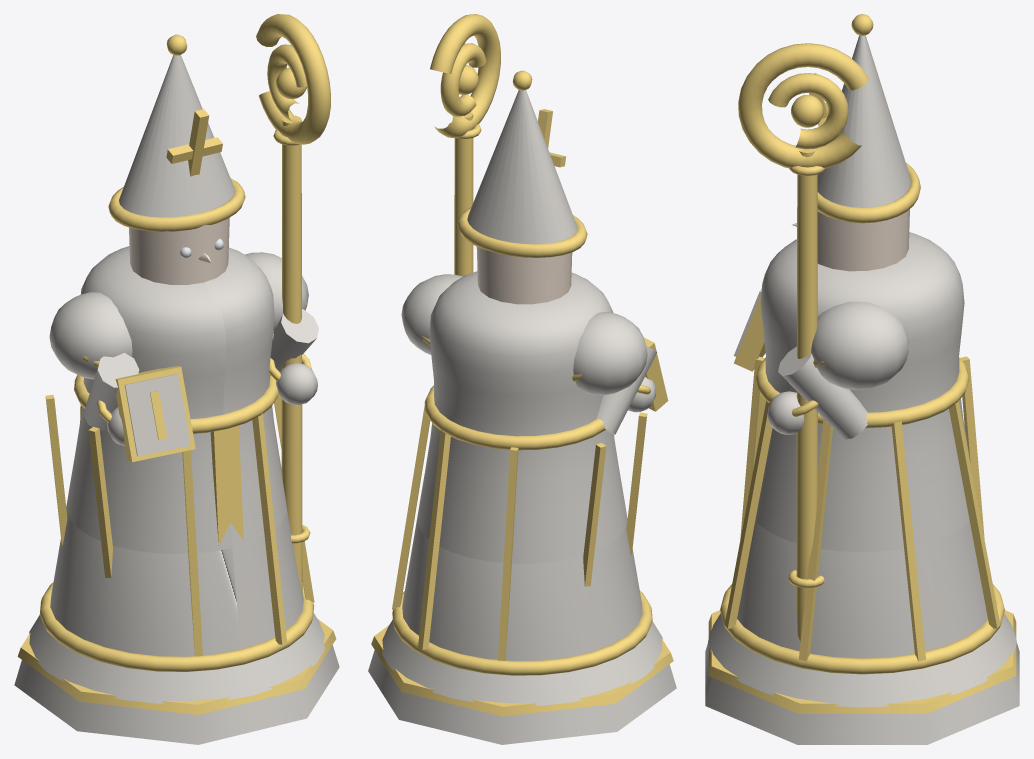
Rendered from bishop.glb.
The picture shows the model from 3 angles, left to right: view 1: azimuth 30°, elevation 25°; view 2: azimuth 150°, elevation 25°; view 3: azimuth 270°, elevation 25°; orthographic projection. The views are drawn at different scales.
Parts seen in each view (by area): view 1: body, gold, face; view 2: body, gold, face; view 3: body, gold, face.
Part boxes in pixels (x1,y1,x2,y2): body: (14,55,339,744); gold: (17,14,336,714); face: (129,218,229,284); body: (368,90,676,744); gold: (371,14,673,716); face: (476,246,572,304); body: (705,35,1019,744); gold: (708,14,1016,713); face: (791,209,909,271).
Bounding box in the file's own units: 0.6837 × 1.63 × 0.6837.
